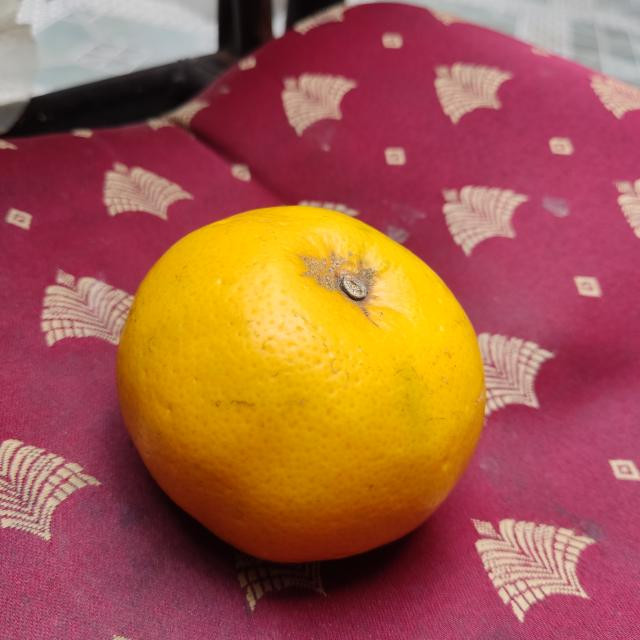orange: (111, 202, 486, 566)
